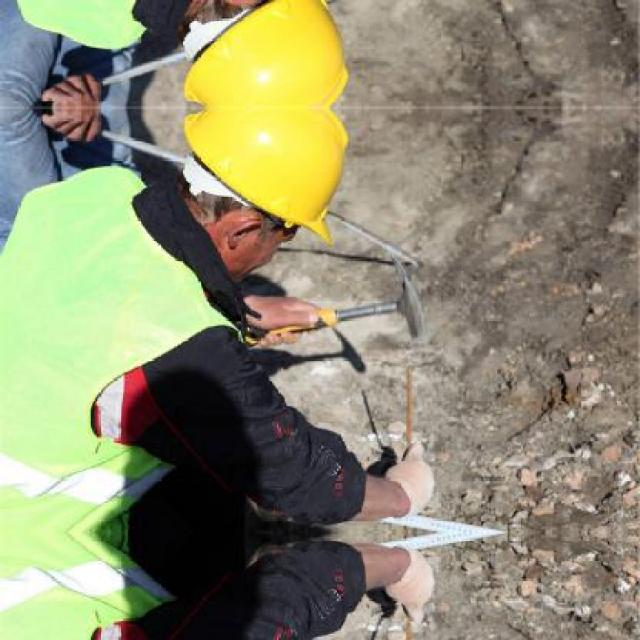Reflective-Jacket: (0, 166, 282, 583)
Safety-Helmet: (183, 100, 360, 240), (180, 0, 355, 122)
